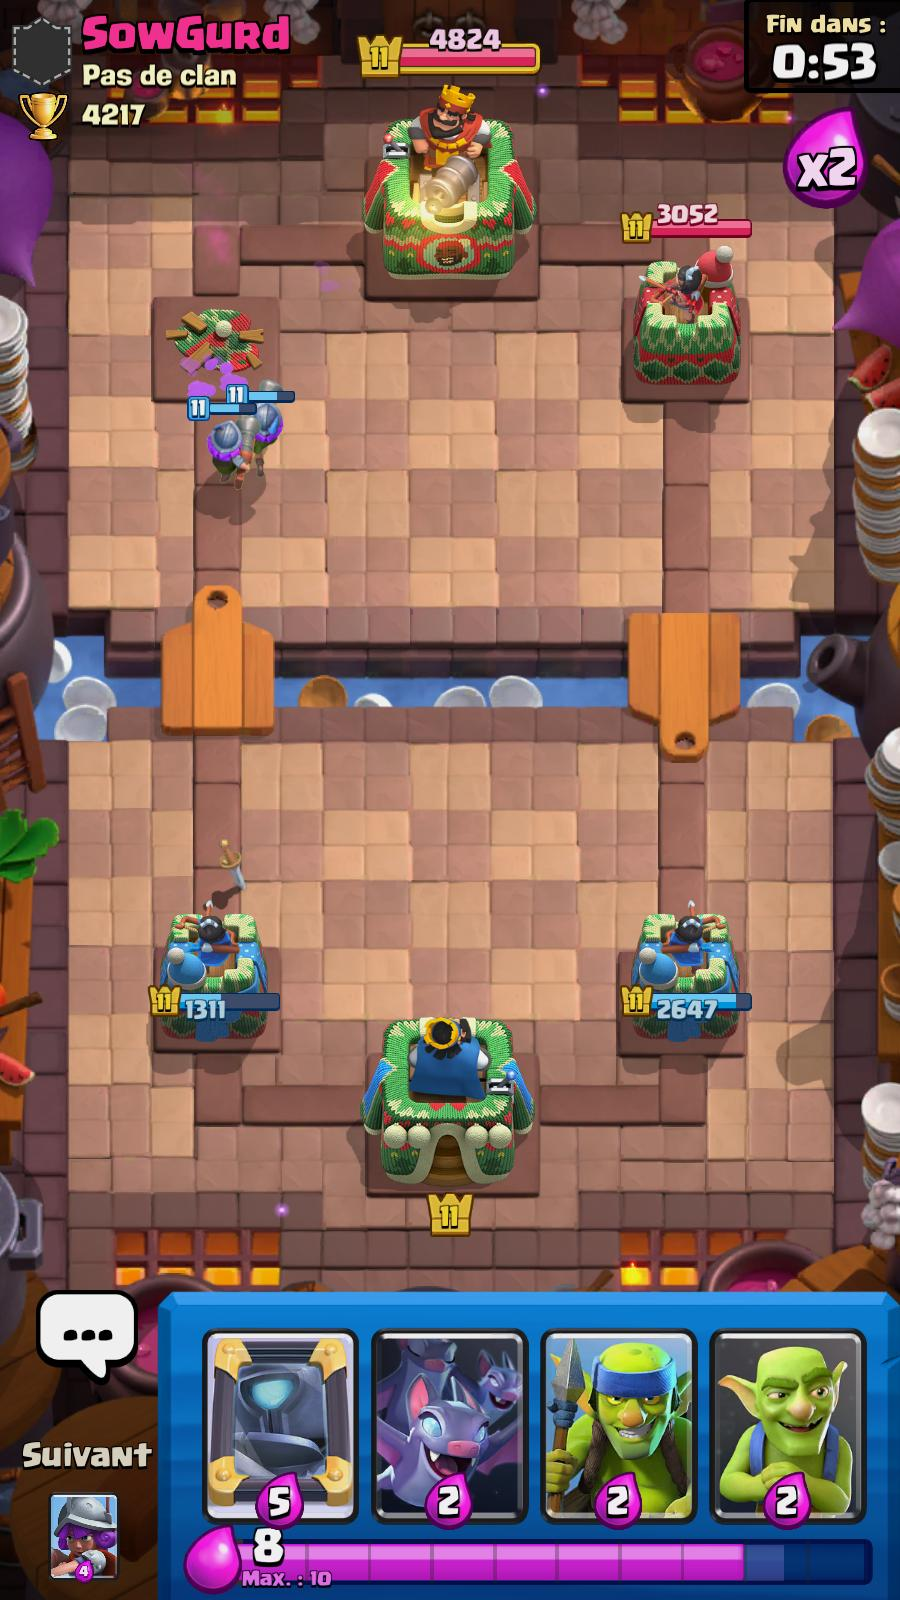mousquetaire: (188, 396, 257, 491), (233, 382, 285, 475)
